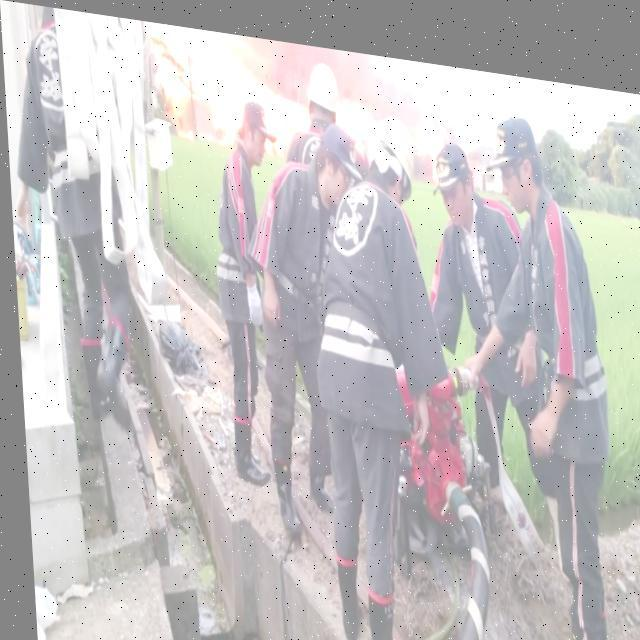Fire: (149, 20, 308, 148), (248, 36, 428, 118), (334, 85, 376, 128), (412, 103, 442, 139)
